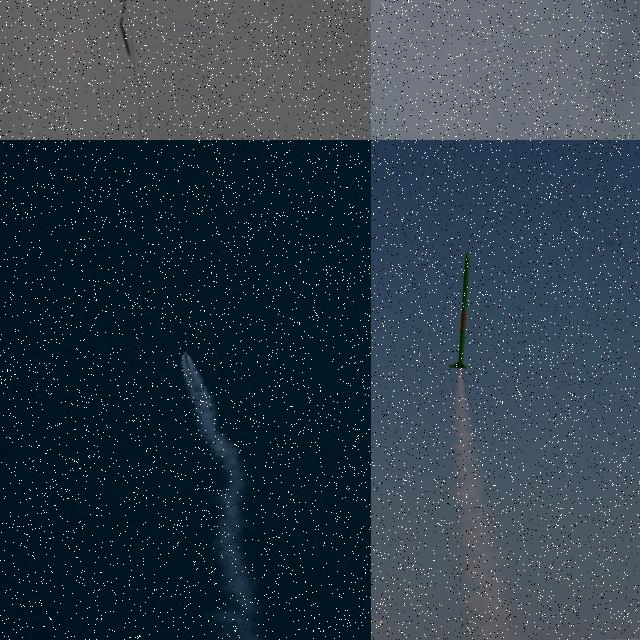Rocket: (449, 250, 471, 369), (182, 352, 190, 356)
